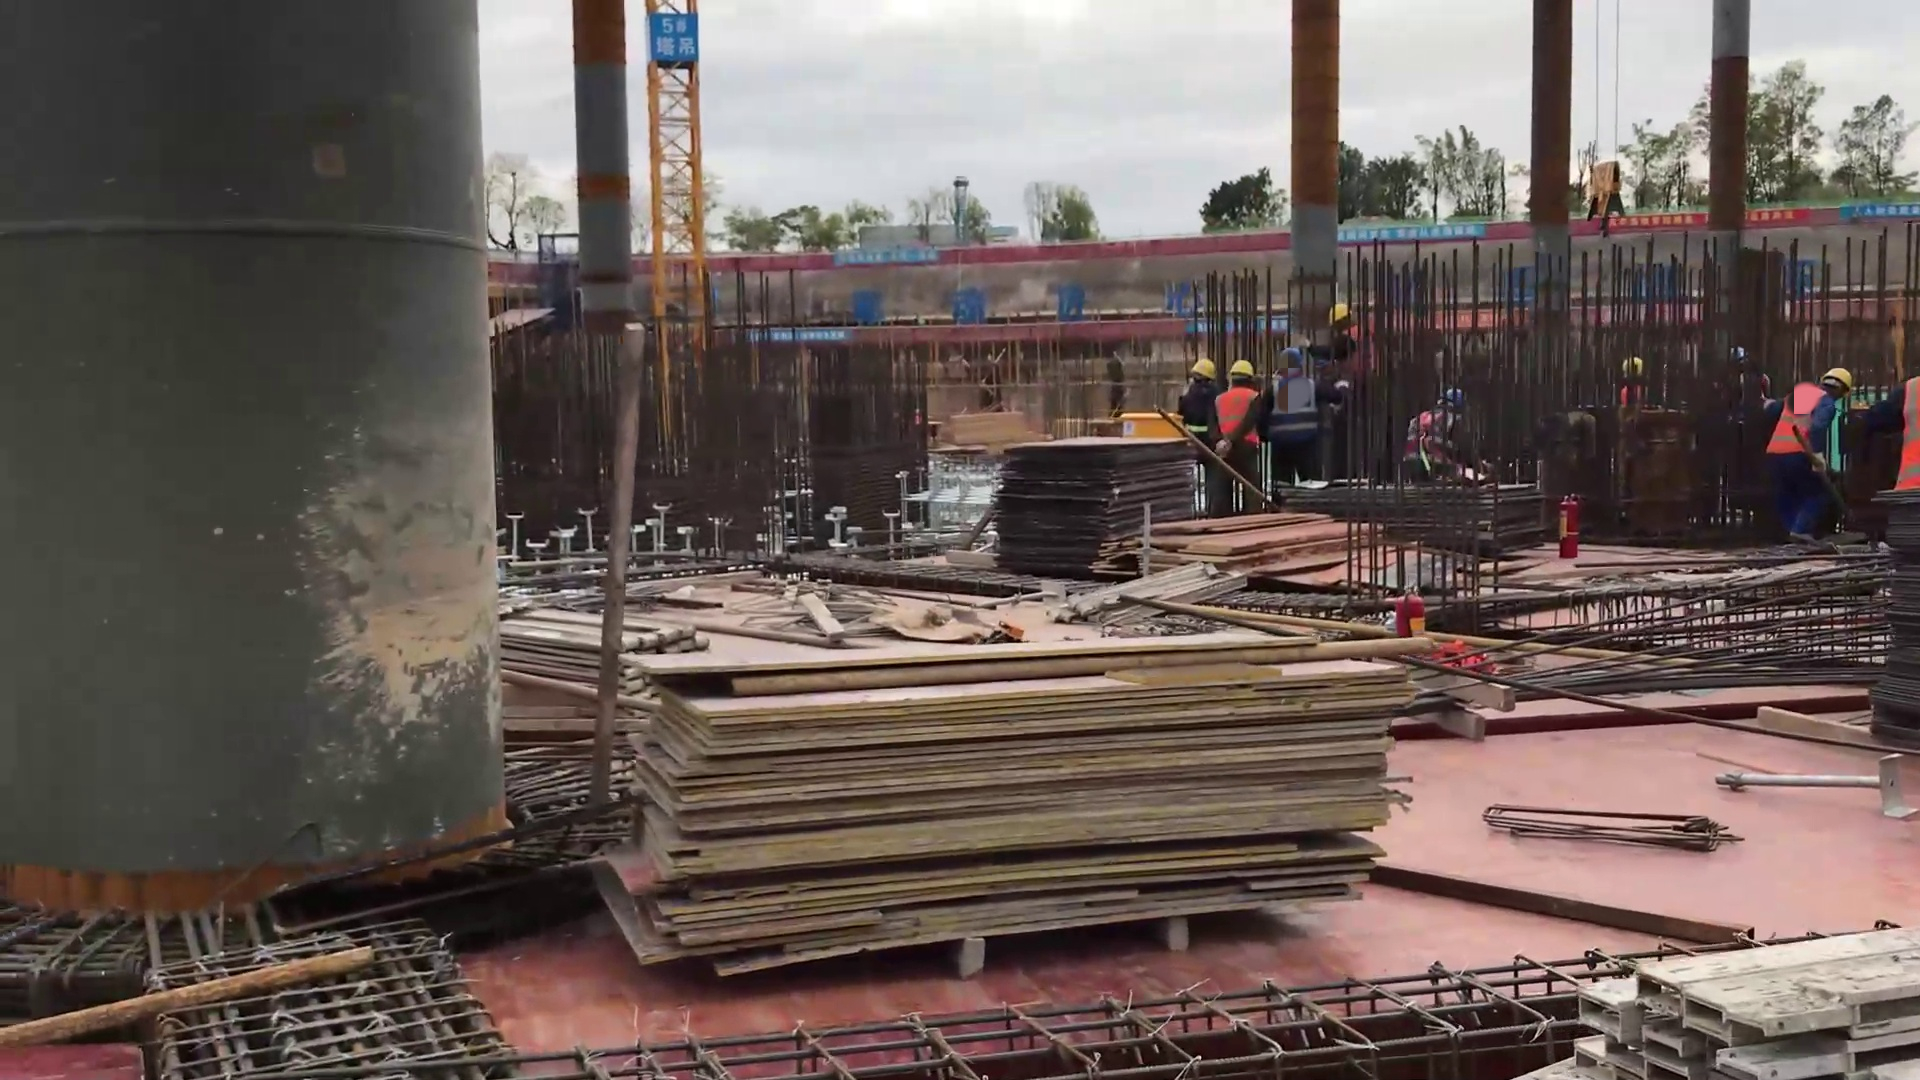helmet: (1826, 367, 1855, 403), (1273, 348, 1303, 374), (1437, 385, 1466, 409), (1321, 309, 1357, 327), (1724, 343, 1753, 365), (1228, 361, 1255, 380), (1193, 355, 1215, 379), (1623, 354, 1643, 377)
person: (1767, 360, 1858, 542), (1860, 354, 1920, 555), (1394, 383, 1481, 487), (1206, 359, 1258, 514), (1272, 347, 1315, 498), (1168, 352, 1215, 452), (1322, 301, 1377, 376), (1721, 339, 1762, 403), (1610, 351, 1651, 404)
vest: (1773, 386, 1825, 467), (1277, 373, 1323, 453), (1340, 325, 1397, 380), (1223, 385, 1267, 455), (1415, 413, 1465, 464), (1185, 381, 1213, 451), (1725, 378, 1770, 417), (1618, 385, 1654, 409)
